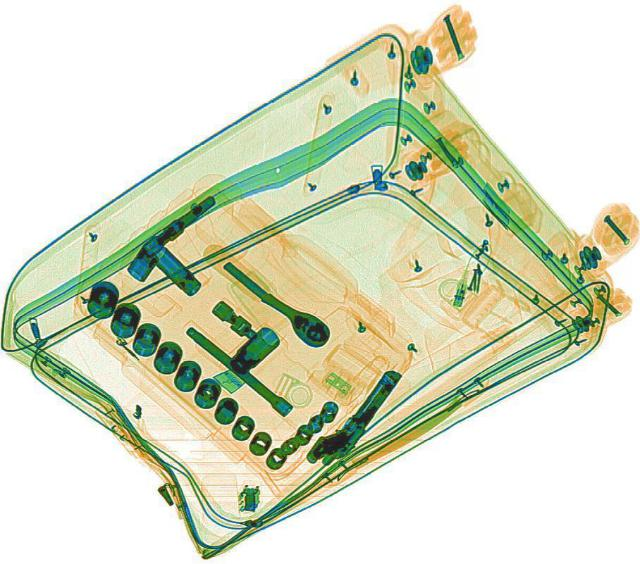Gun: (301, 358, 405, 473)
